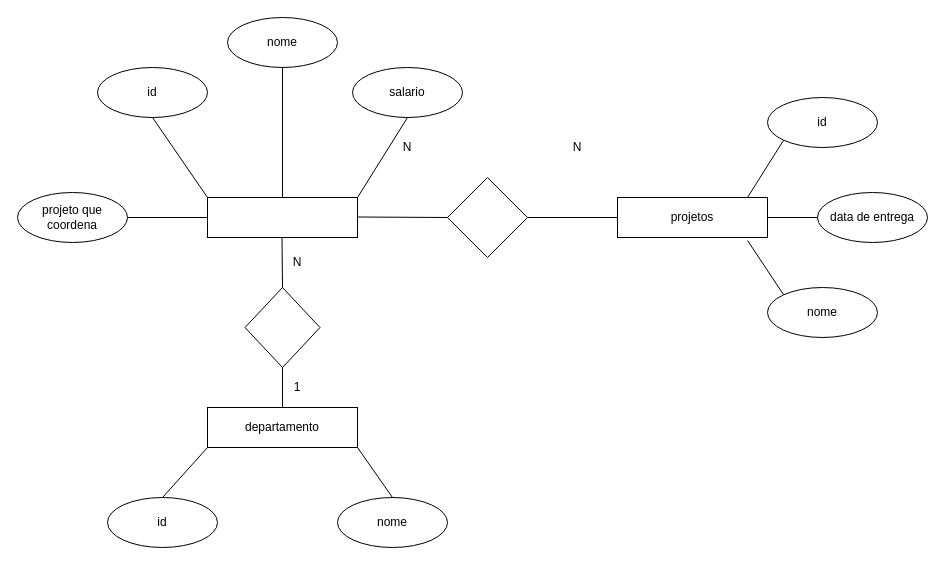
Image size: 945x565. Some labels were removed from this diagram. Here are the shapes that lost their labels. From the top down, the centre of each, then its label:
At point 282,217: "Funcionário".
At point 487,217: "trabalha".
At point 282,327: "pertence".
